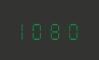eight: (48, 20, 62, 40)
one: (18, 20, 32, 40)
zero: (33, 20, 47, 40), (63, 20, 77, 40)
